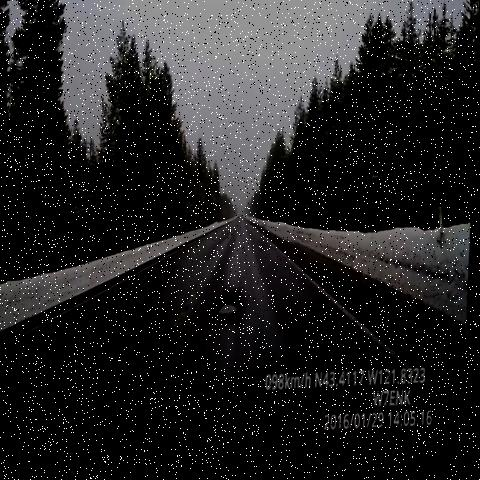pothole: (215, 301, 243, 326)
